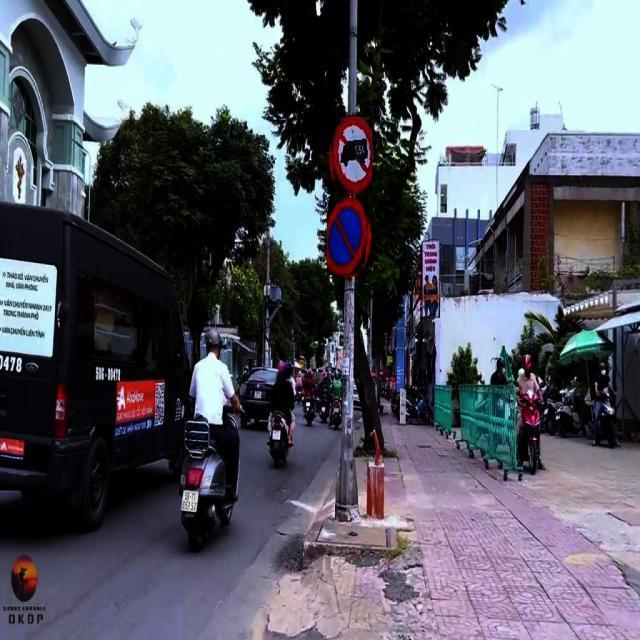106-cam-oto-tai: (328, 117, 372, 195)
131a-cam-do-xe: (324, 200, 366, 276)
